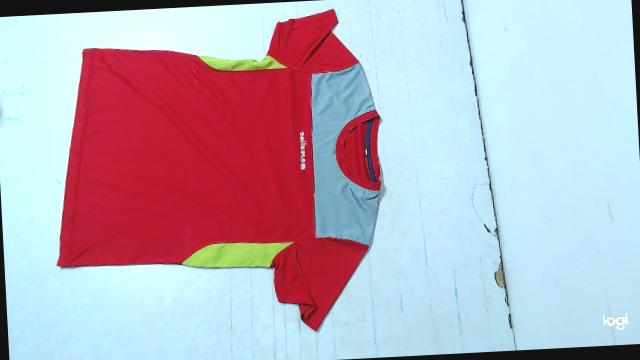new-garment: (57, 9, 380, 329)
